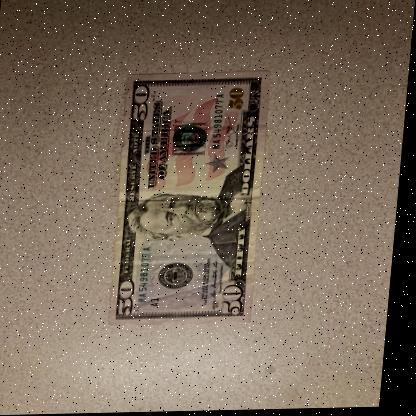fifty-front: (111, 72, 275, 328)
